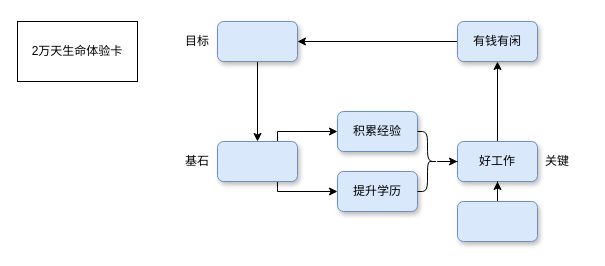
Some shapes in this 605 by 266 pixel diagram are drawn without their labels. The shapes that lost their labels are listed below. From the top down, each one's centre as x and y in pixels, then its label:
the point at 258,42: 更好的 自己 更好的生活
the point at 258,162: 养好身体 养好心情
the point at 498,222: 运气. 苦寻
